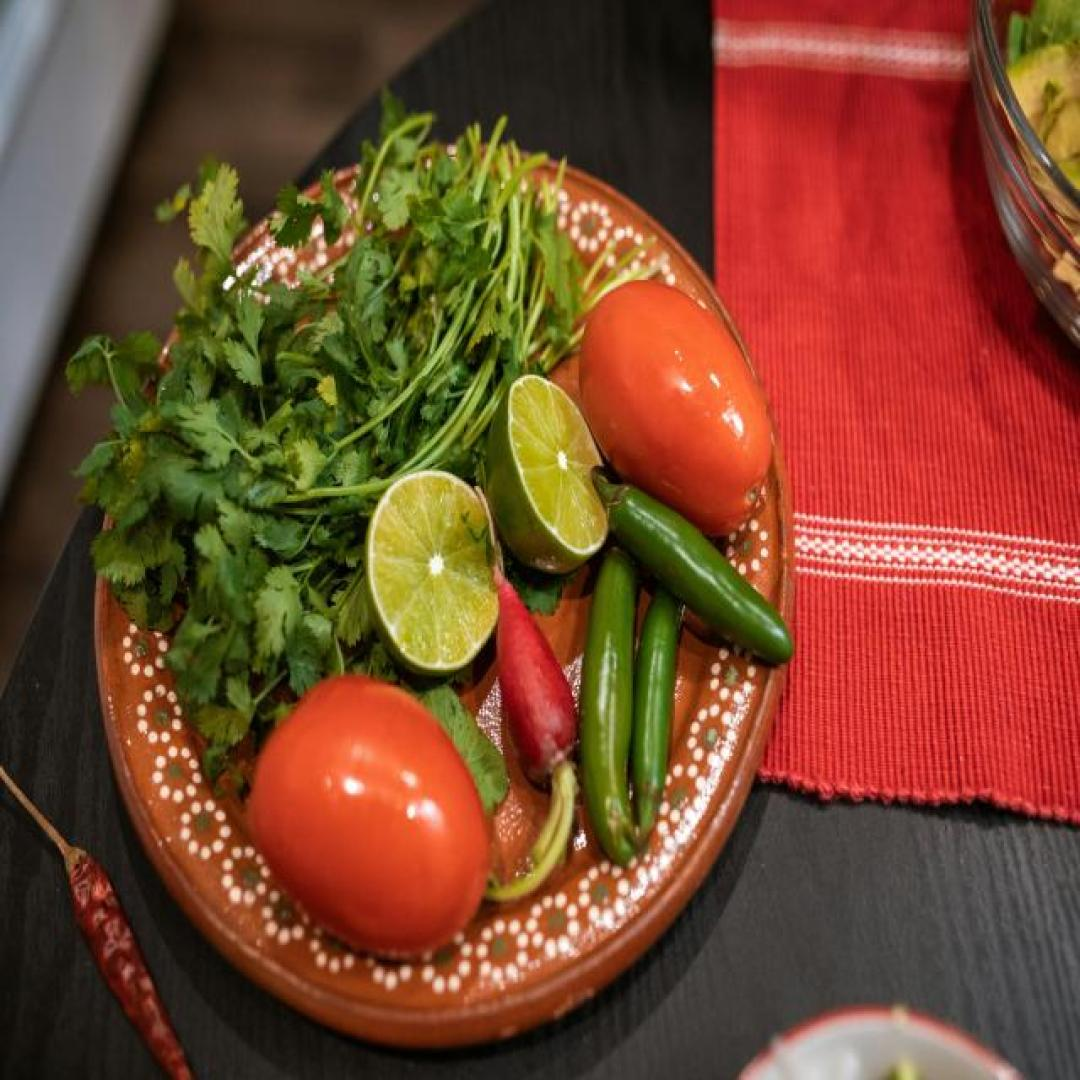matang: (250, 678, 491, 956), (579, 280, 773, 540)
